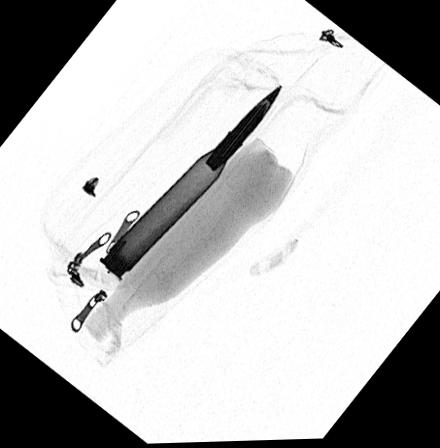Bullet: (99, 84, 282, 279)
